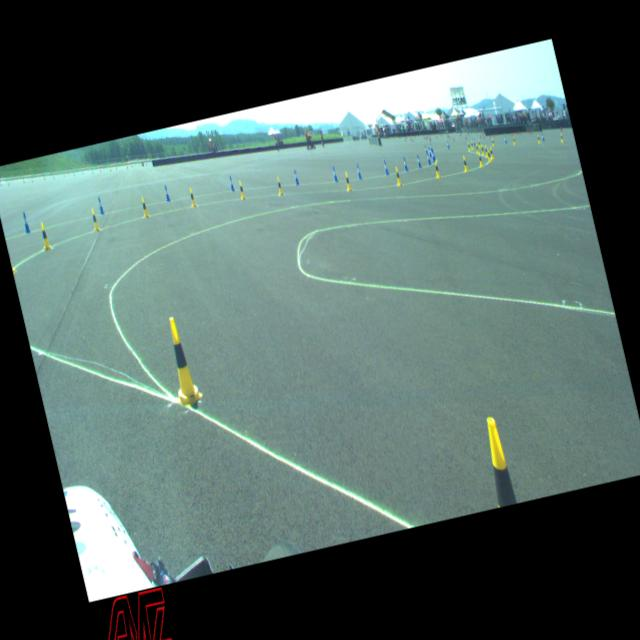blue_cone: (20, 210, 32, 232), (96, 196, 104, 214), (162, 184, 170, 202), (382, 159, 389, 175), (355, 163, 362, 179), (331, 166, 338, 182), (228, 176, 235, 192), (292, 170, 299, 184), (402, 156, 408, 172), (415, 154, 421, 168), (429, 150, 436, 162), (425, 152, 431, 164), (427, 146, 432, 156), (424, 144, 428, 154), (540, 133, 544, 141), (428, 142, 432, 150), (502, 136, 507, 142), (446, 141, 450, 148)
yellow_cone: (160, 314, 204, 408), (478, 415, 516, 507), (38, 220, 52, 250), (7, 245, 17, 272), (89, 207, 100, 231), (140, 195, 150, 217), (187, 186, 197, 206), (275, 176, 284, 196), (393, 166, 402, 186), (237, 180, 246, 200), (343, 171, 352, 191), (432, 160, 440, 178), (461, 154, 468, 172), (477, 152, 483, 166), (488, 146, 494, 158), (486, 148, 490, 162), (483, 145, 488, 156), (469, 140, 474, 150), (480, 144, 484, 154), (474, 142, 478, 152), (477, 138, 481, 148), (536, 134, 540, 143), (559, 133, 563, 142), (490, 137, 494, 146), (466, 142, 470, 150), (512, 136, 516, 144)
